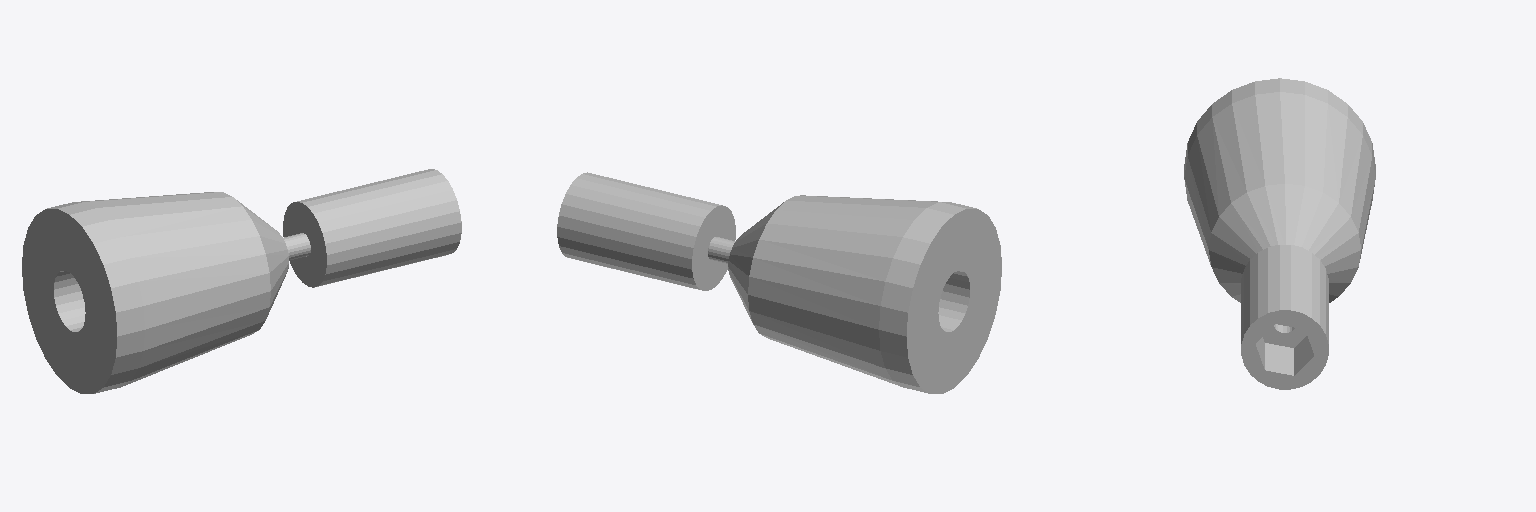
File: chuck.obj
3 views of the same model, side by side, from view 1: azimuth 30°, elevation 25°; view 2: azimuth 150°, elevation 25°; view 3: azimuth 270°, elevation 25° (orthographic).
Visible parts, largest first — view 1: Chuck_Mesh4_dewalt_12v_Model.001; view 2: Chuck_Mesh4_dewalt_12v_Model.001; view 3: Chuck_Mesh4_dewalt_12v_Model.001.
Part boxes in pixels (left/top/right/bottom): Chuck_Mesh4_dewalt_12v_Model.001: left=22, top=169, right=461, bottom=393; Chuck_Mesh4_dewalt_12v_Model.001: left=557, top=172, right=1001, bottom=393; Chuck_Mesh4_dewalt_12v_Model.001: left=1184, top=78, right=1375, bottom=389.
Bounding box in the file's own units: 0.0857 × 0.0381 × 0.0381.